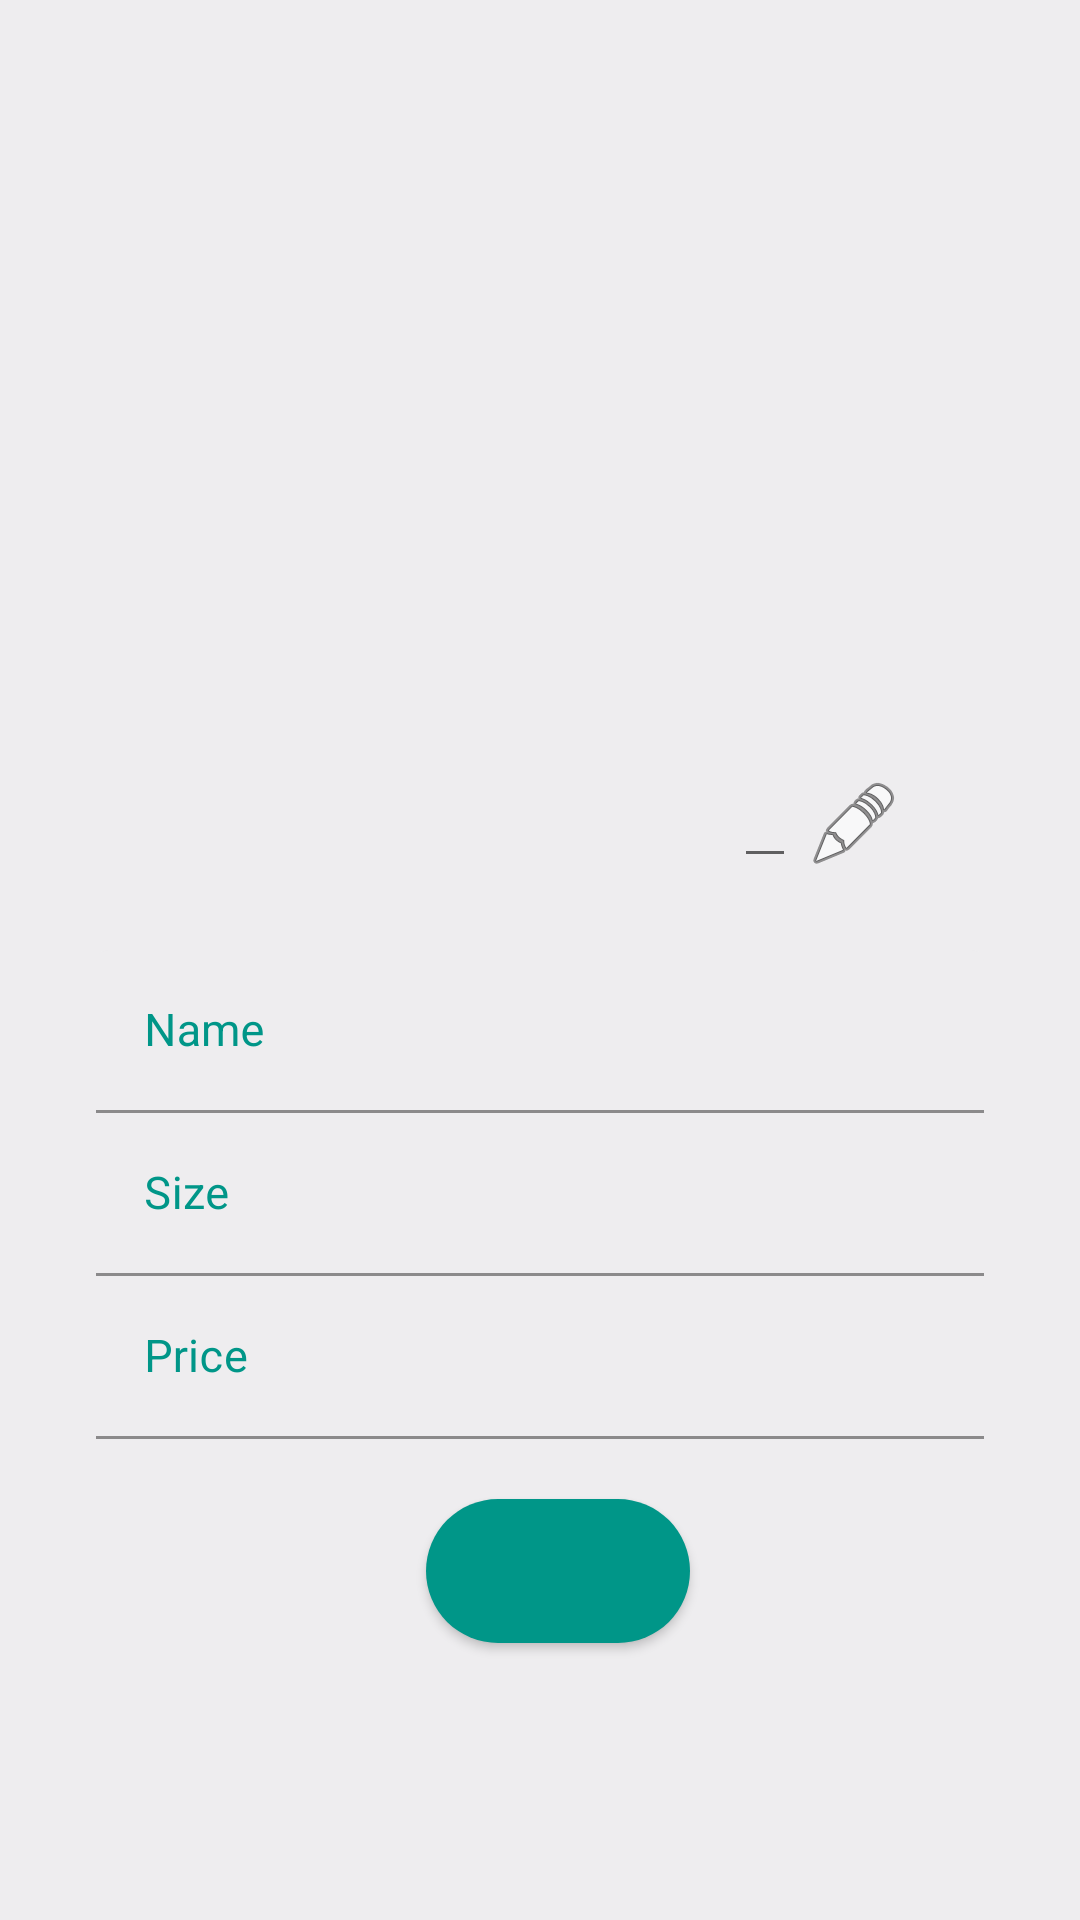

Icons on this 1080 × 1920 Android screen, each with the point to tap as [x,y]:
edit: [853,823]
